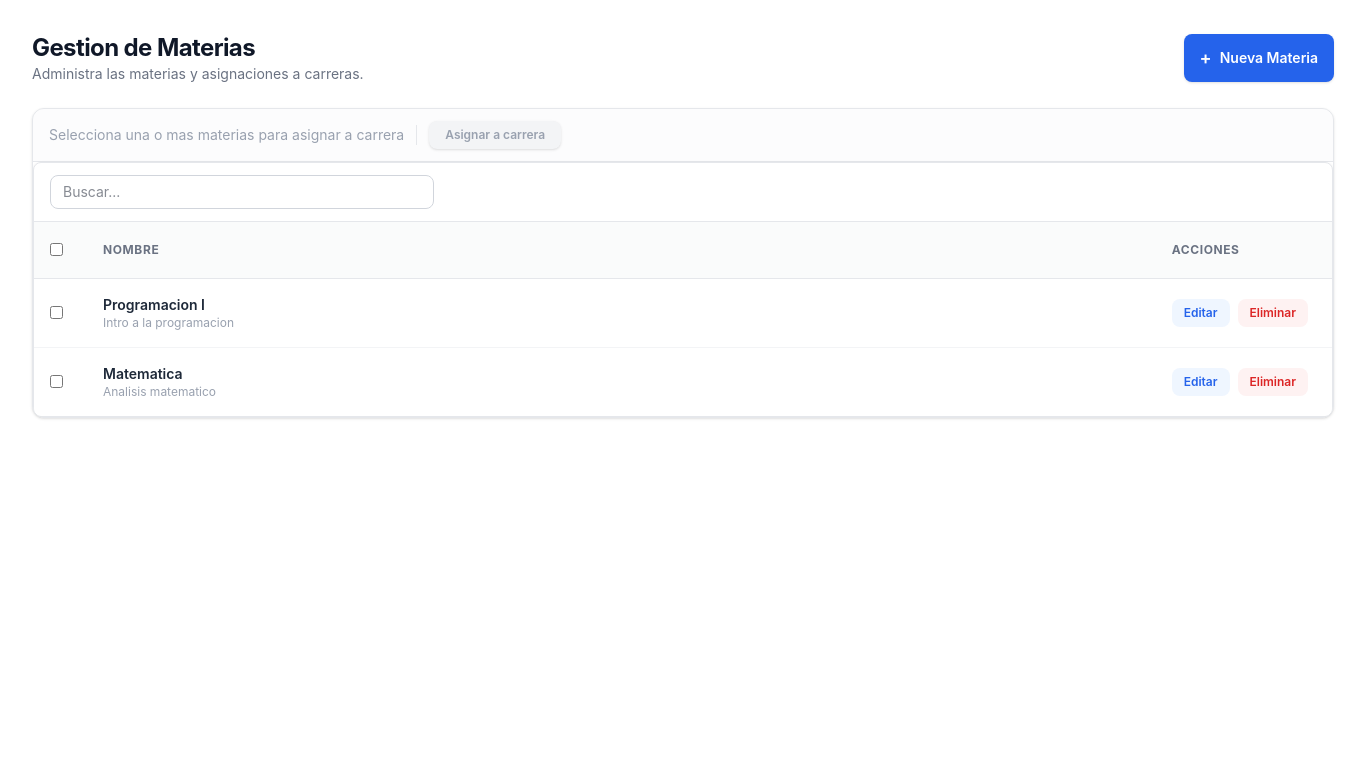
Test: AdminMateriasPage › abre el modal de asignacion al seleccionar materias
The width and height of the screenshot is (1366, 768).
Click the checkbox next to "Programacion I".
click(56, 312)  # box 50,306 -> 63,319
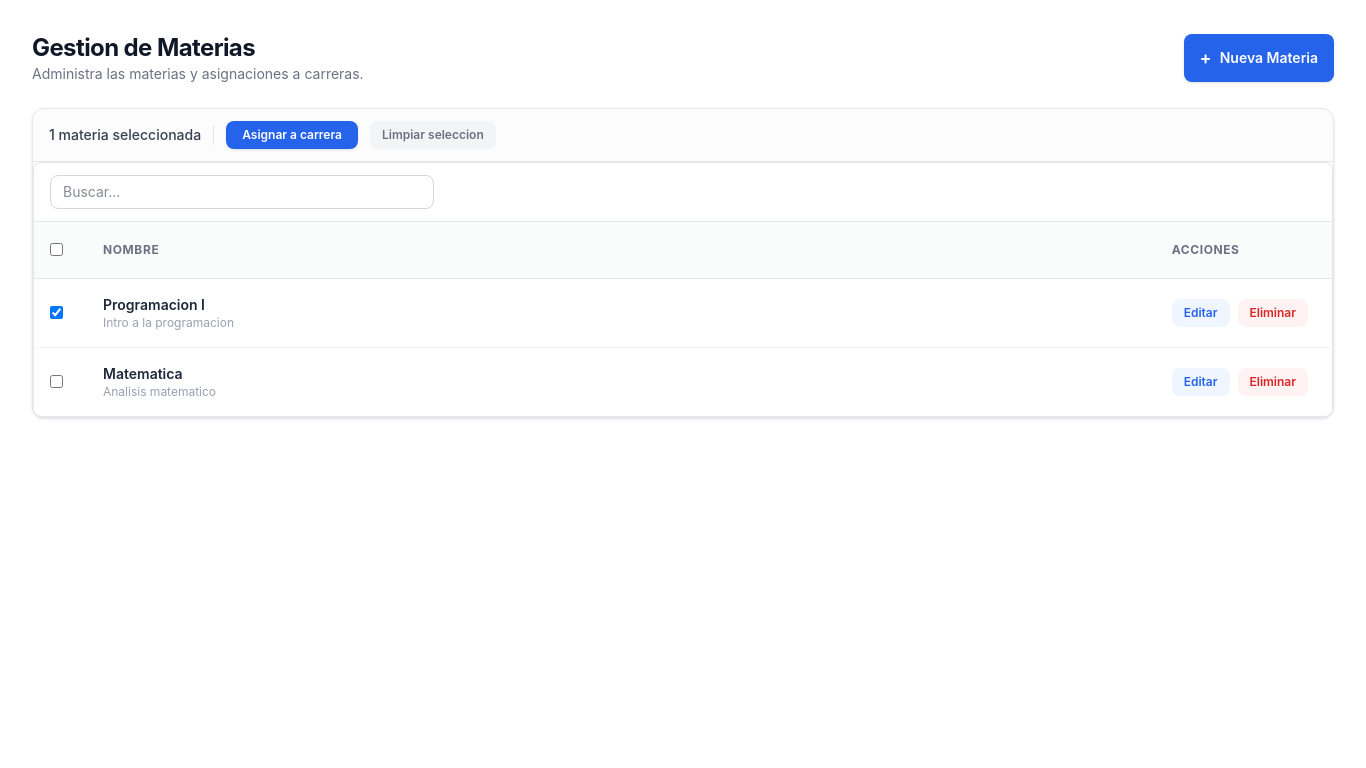
Click the button "Asignar a carrera".
click(292, 135)  # box 226,121 -> 358,149
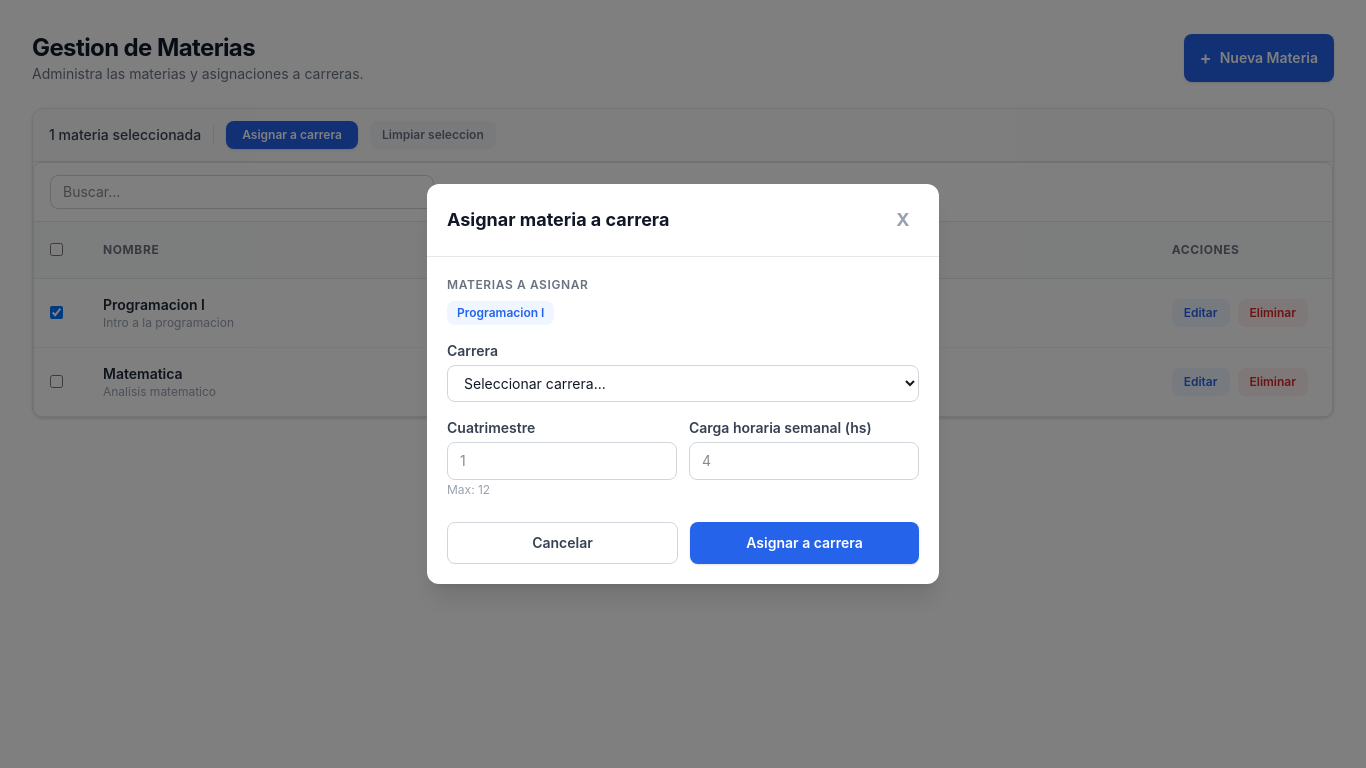
Expected: the heading "Asignar materia a carrera" is shown, 447,206 -> 669,234
